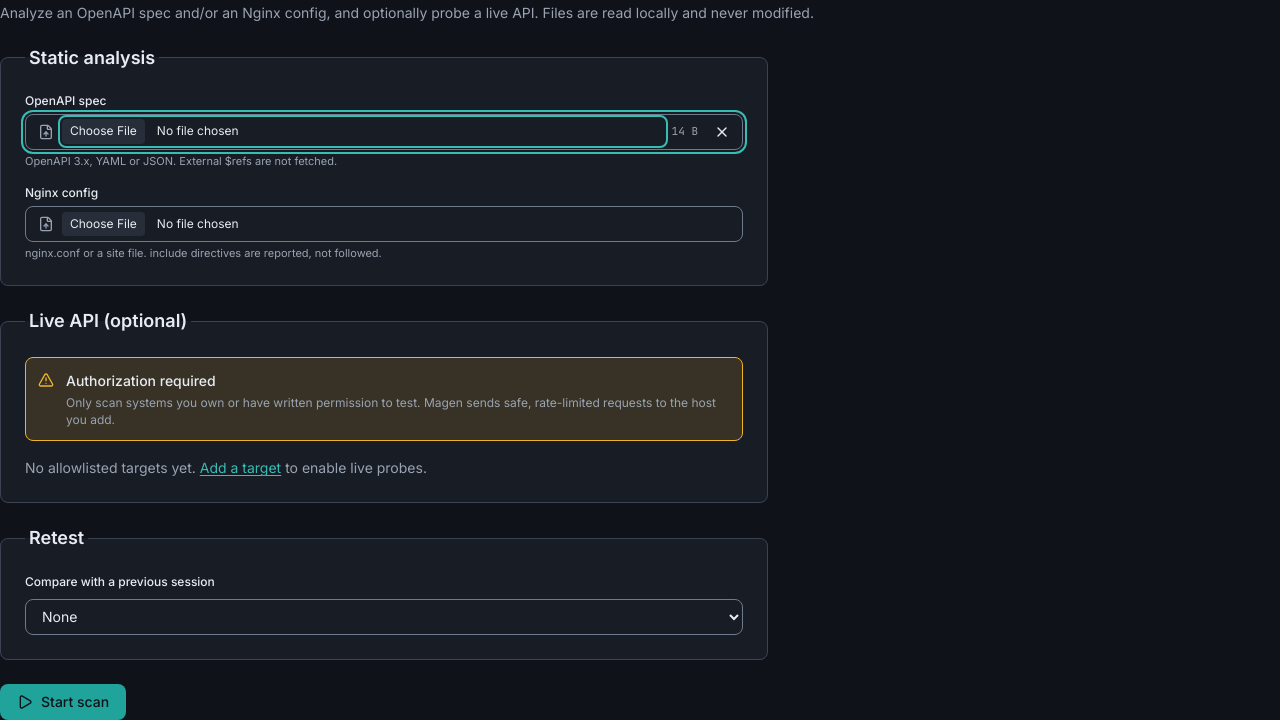
NewScanPage › disables Start until a file is chosen, then creates a session and shows findings
This screenshot has width=1280, height=720.
Earlier steps of the test are not shown.
Later steps or results of the test are not shown.
(page scrolled)
Click the button "Start scan": (63, 702) [0,684,126,719]
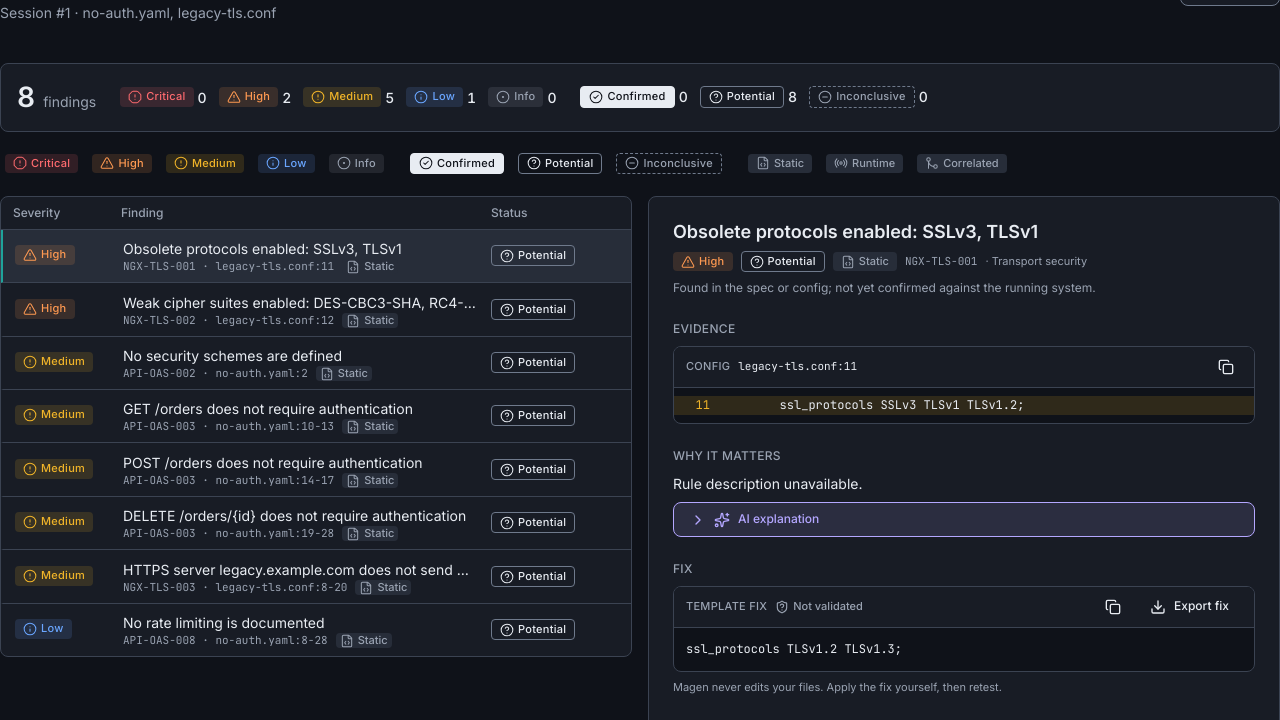
Check: the number of options is 8
